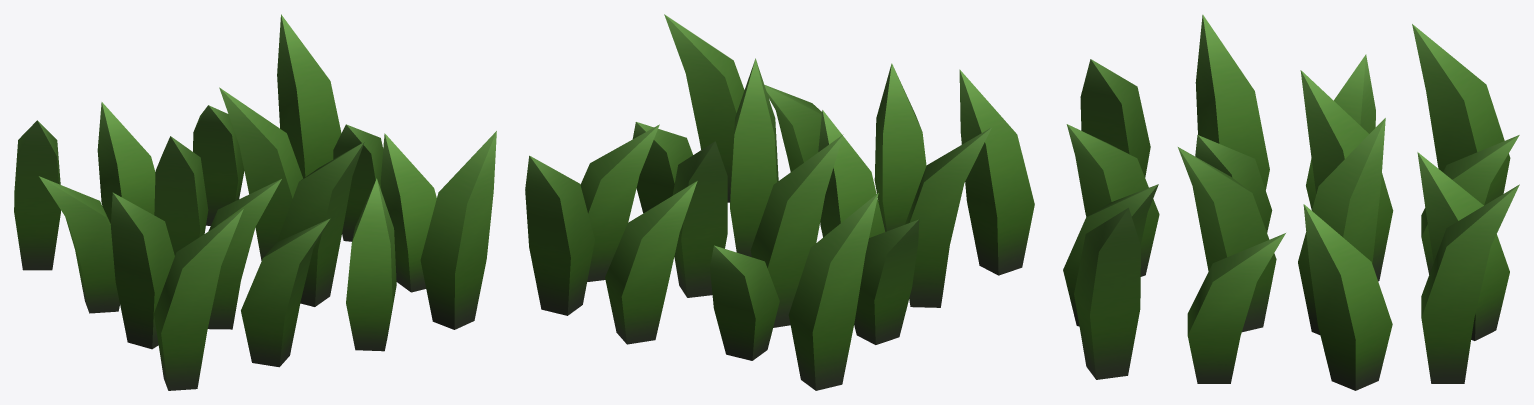
File: deco_grass.FBX
3 renders of one model, left to right at view 1: azimuth 30°, elevation 25°; view 2: azimuth 150°, elevation 25°; view 3: azimuth 270°, elevation 25°, orthographic. The views are drawn at different scales.
Visible parts, largest first — view 1: deco_grass; view 2: deco_grass; view 3: deco_grass.
Boxes of the visible parts, bbox=[...] form: deco_grass: bbox=[14, 14, 496, 390]; deco_grass: bbox=[525, 14, 1034, 390]; deco_grass: bbox=[1063, 14, 1519, 390].
Size of the model in its own units: 1.97 by 0.91 by 1.96.
Materials: 1 (1 with a texture image).
